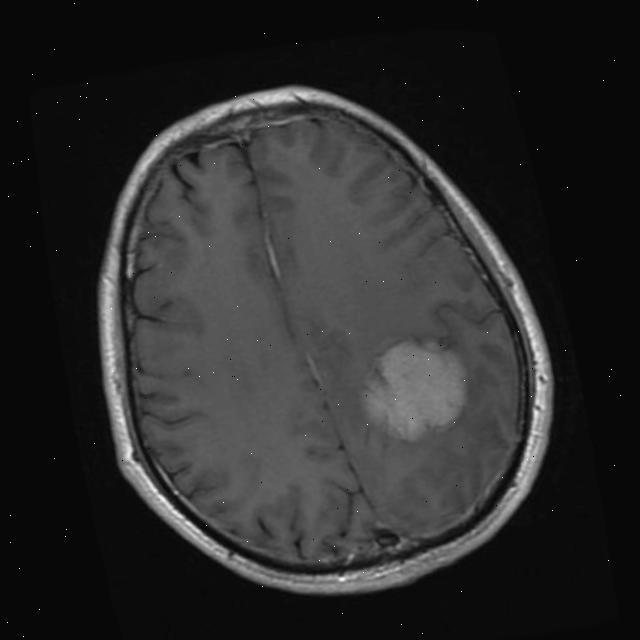Meningioma: (350, 323, 477, 455)
